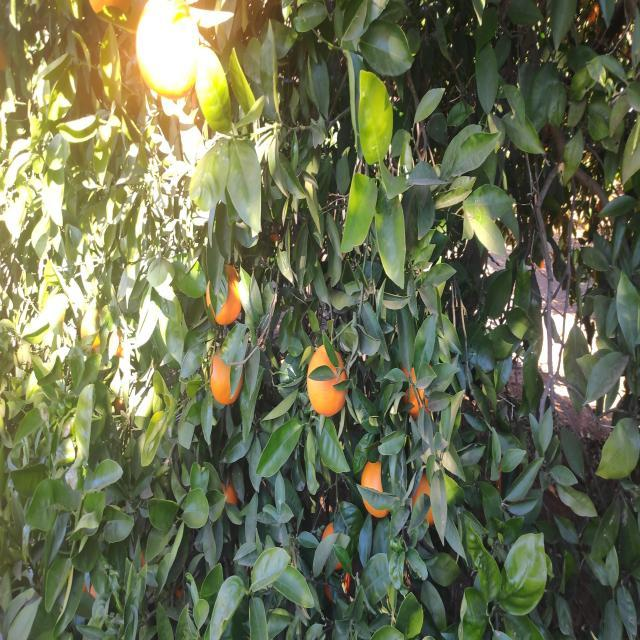Jeruk Sudah Matang: (136, 0, 198, 99), (306, 346, 348, 416), (208, 264, 244, 324), (208, 349, 244, 402), (361, 461, 393, 518), (402, 366, 434, 416), (413, 474, 439, 526), (220, 476, 242, 514)
